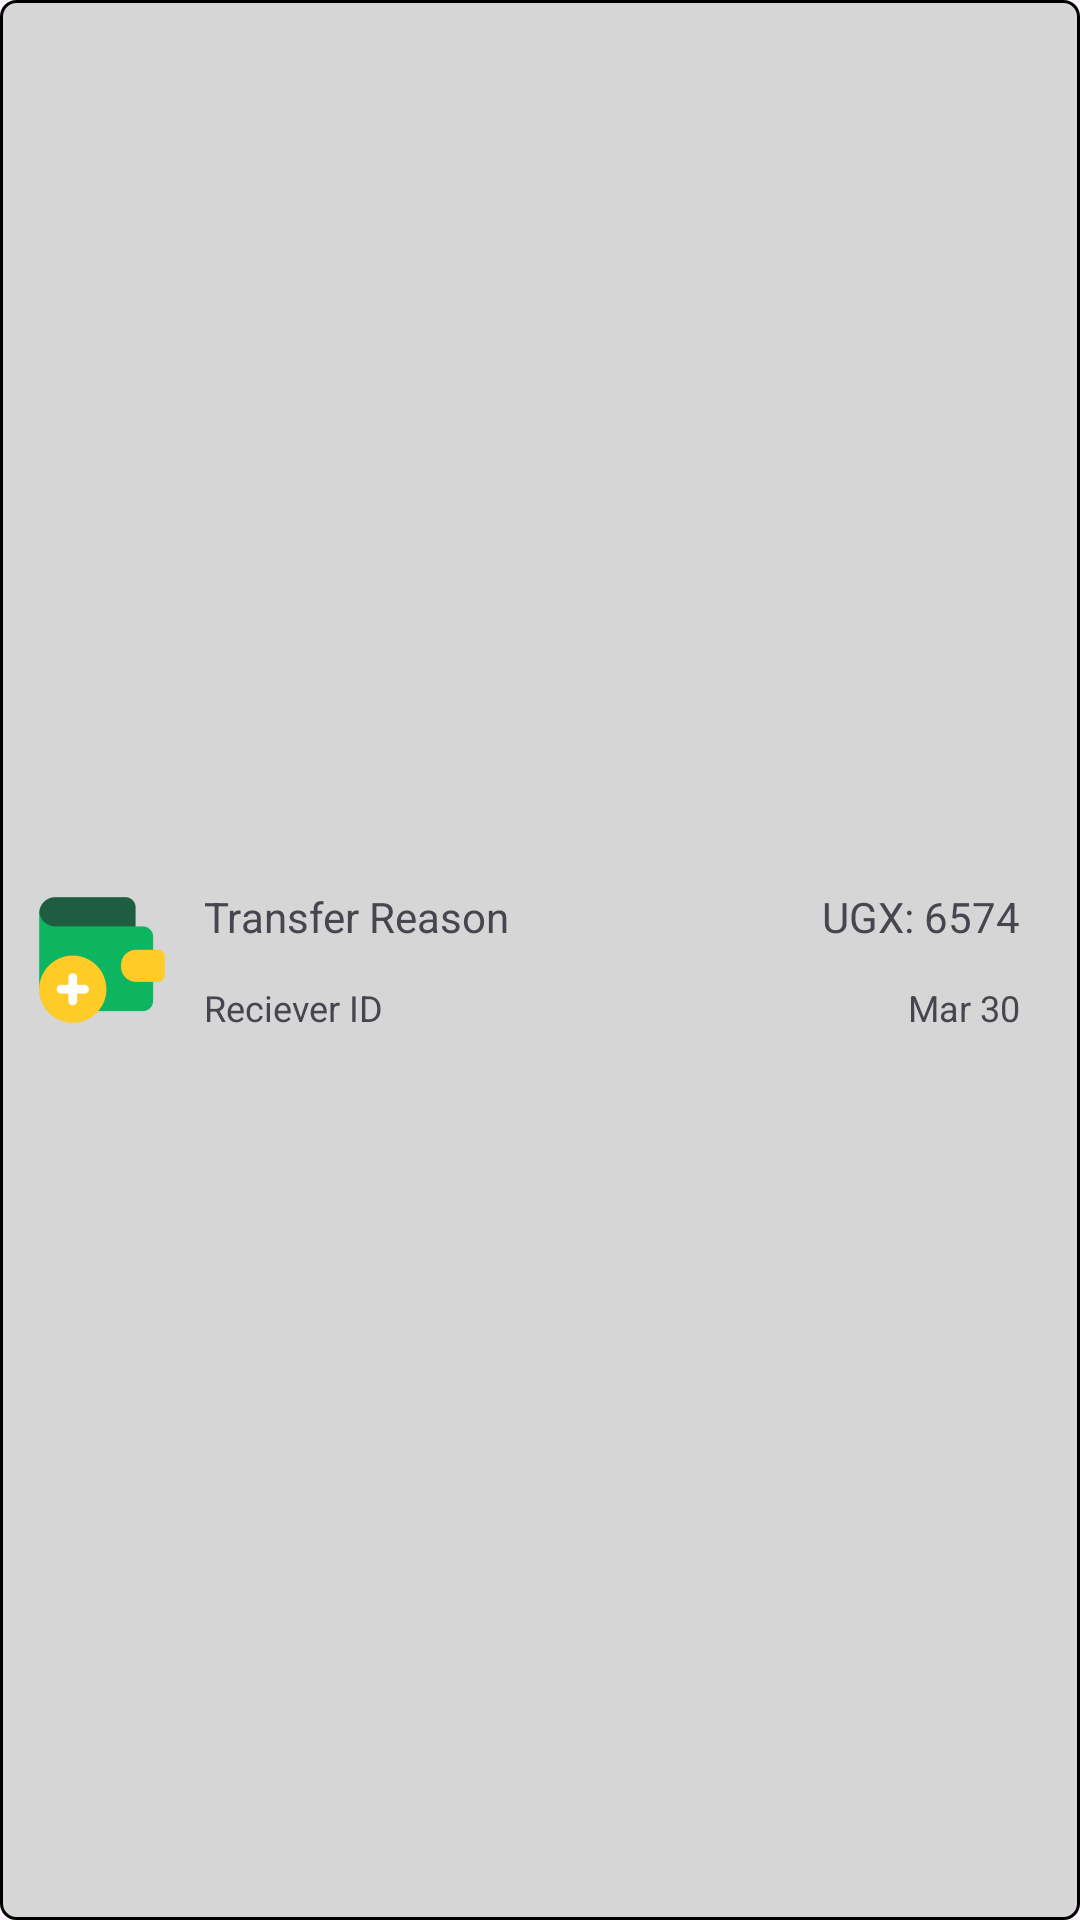

Screen size 1080w x 1920h. Icon name, then its center in pixels as (x=x, y=y):
debit account: (x=102, y=960)
